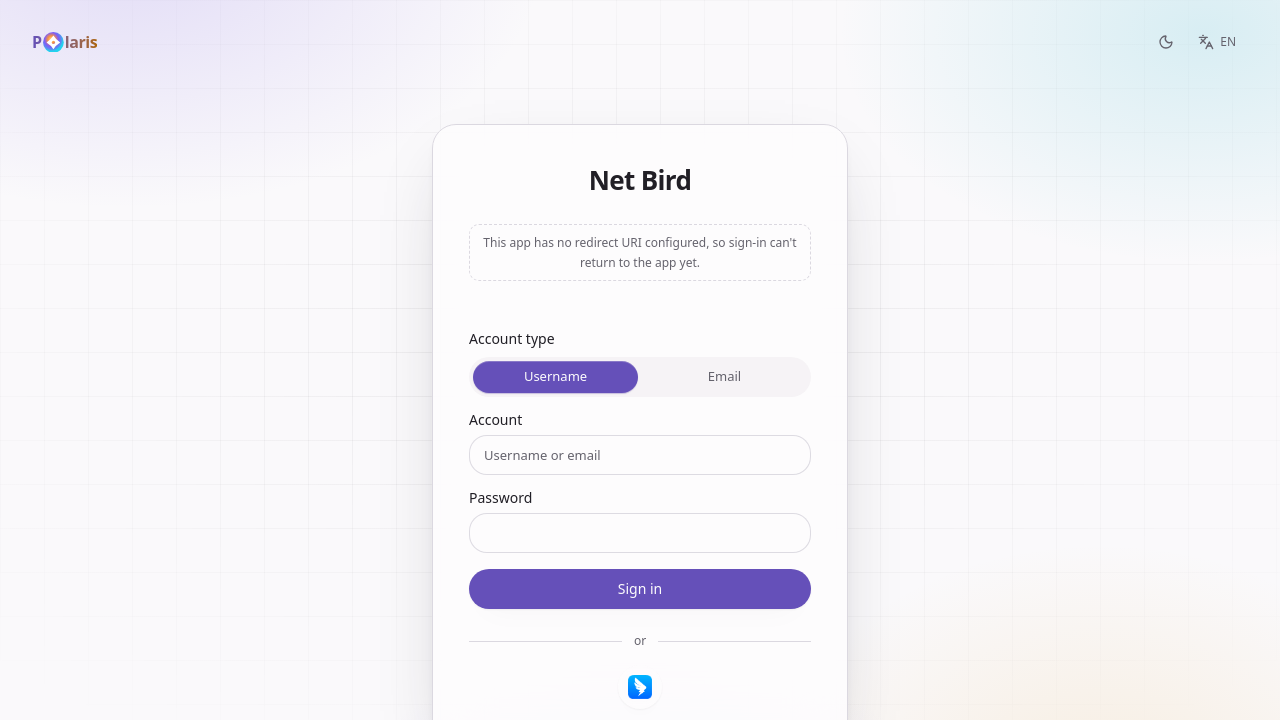
Test case: 第三方登录入口 › 图标悬浮时展示身份提供商的名称
Check: the heading "Net Bird" is shown, box x1=589 y1=162 x2=691 y2=198
Hover over the button named "钉钉登录" at coordinates (640, 687), box x1=618 y1=665 x2=662 y2=709
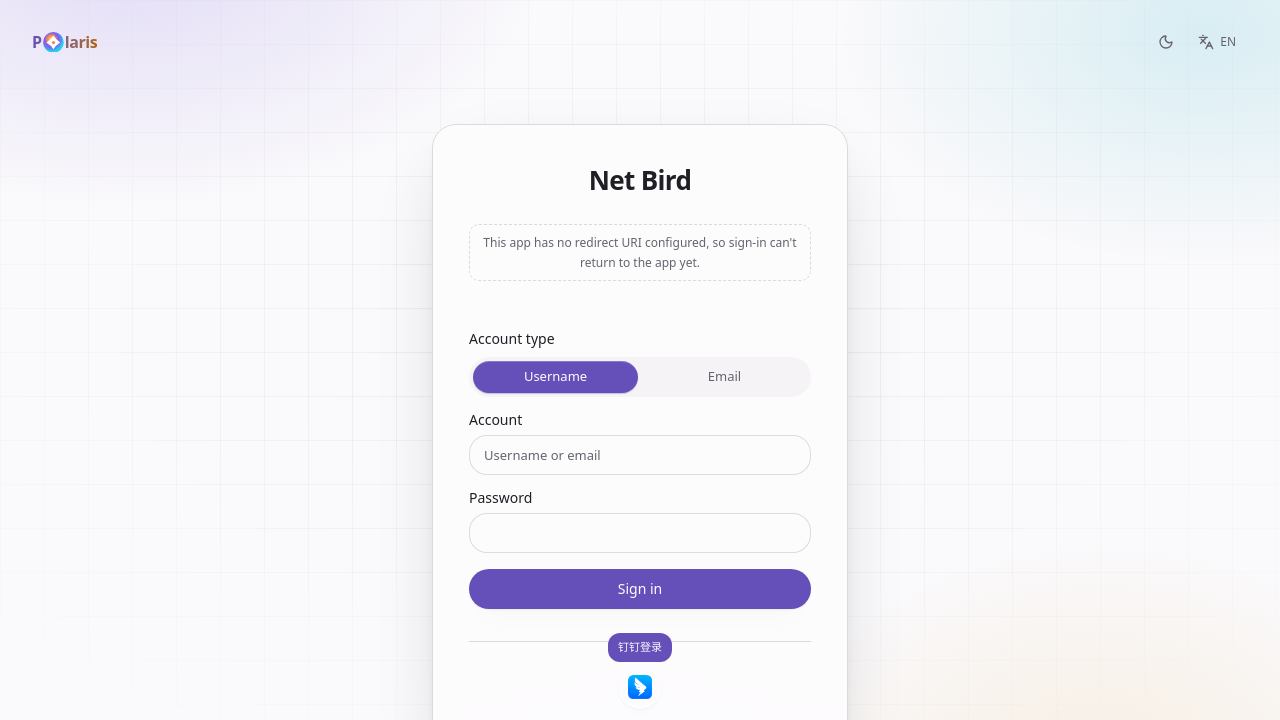
Check: the tooltip reads "钉钉登录", box x1=618 y1=639 x2=662 y2=654
